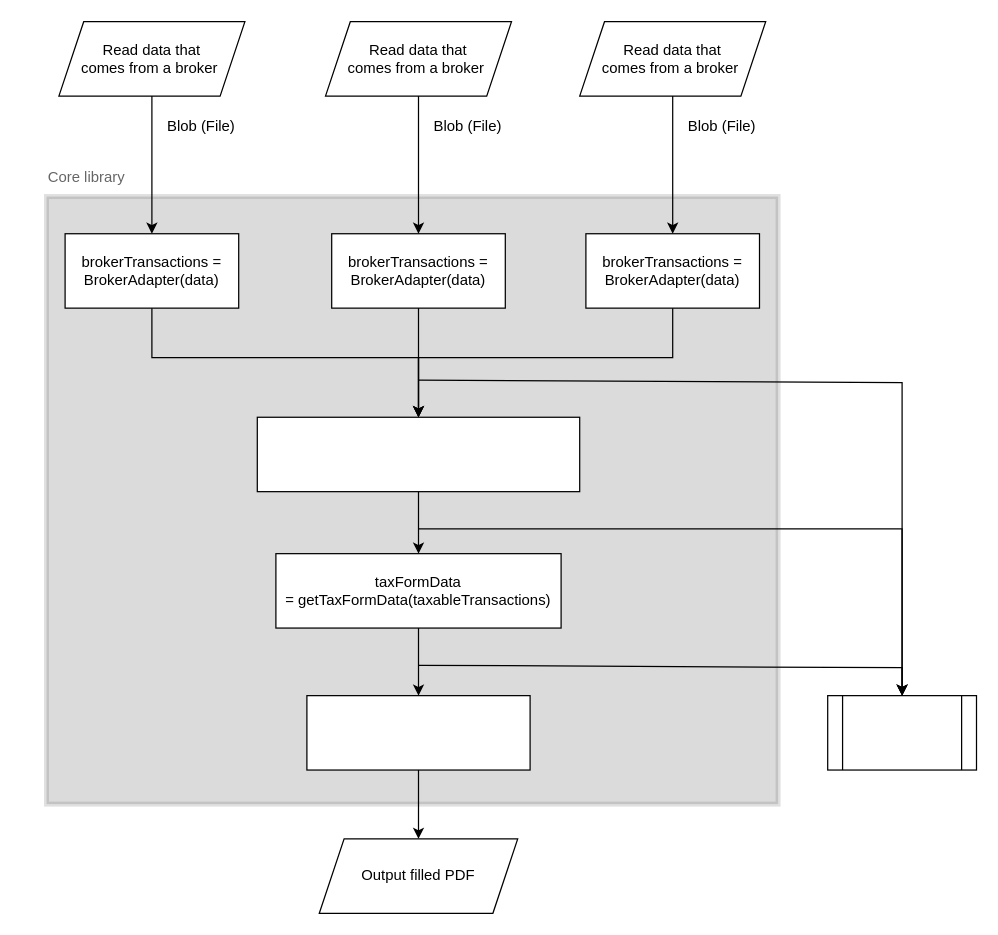
The diagram is 998 pixels wide and 935 high, and some of its shapes have lost their labels. Each missing label, with the centre of its shape:
filledPdf = fillPdf(...) using taxFormData: pixel 418 732
taxableTransactions = getTaxableTransacitons(brokerTranasctions): pixel 418 454
Visualise data: pixel 901 732
